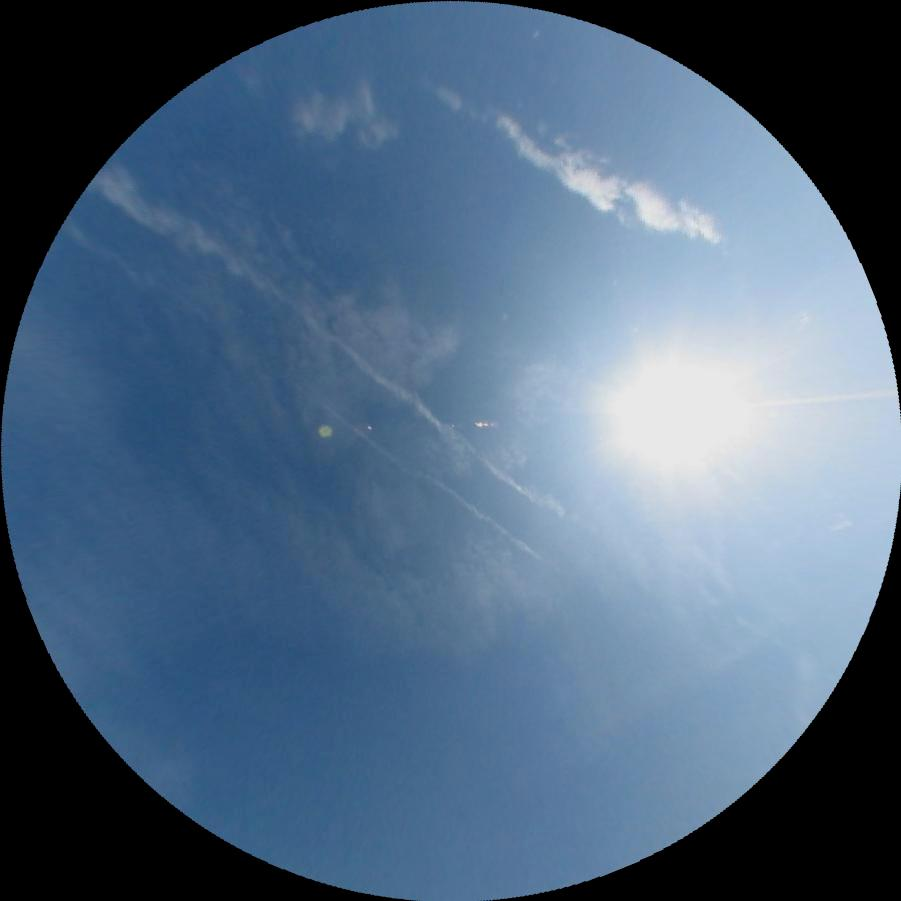contrail veryold: (88, 153, 568, 540), (315, 401, 545, 562)
parasite: (749, 381, 895, 403)
sun: (597, 321, 769, 493)
